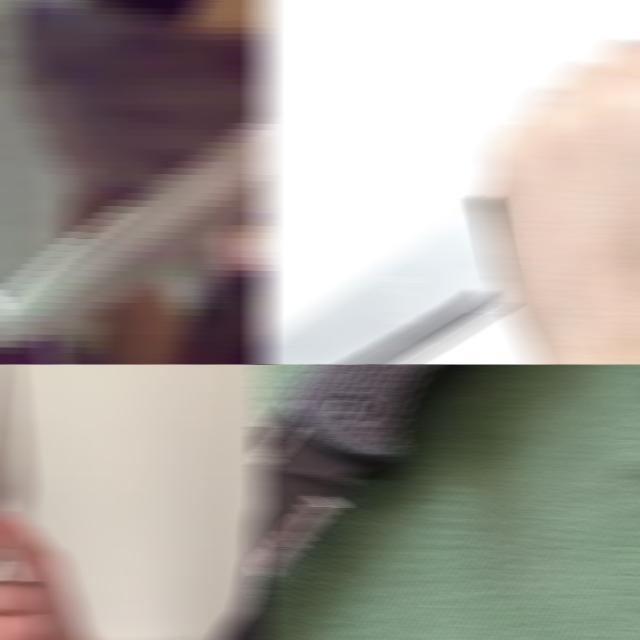Knife: (256, 364, 443, 585), (256, 204, 511, 364)
Knife_Handle: (256, 32, 640, 364), (0, 0, 268, 356), (0, 364, 121, 640)
